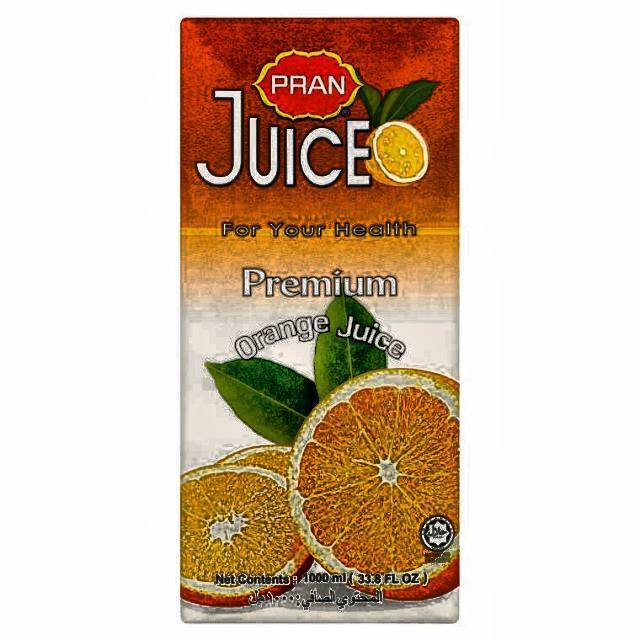cardboard: (178, 16, 460, 623)
